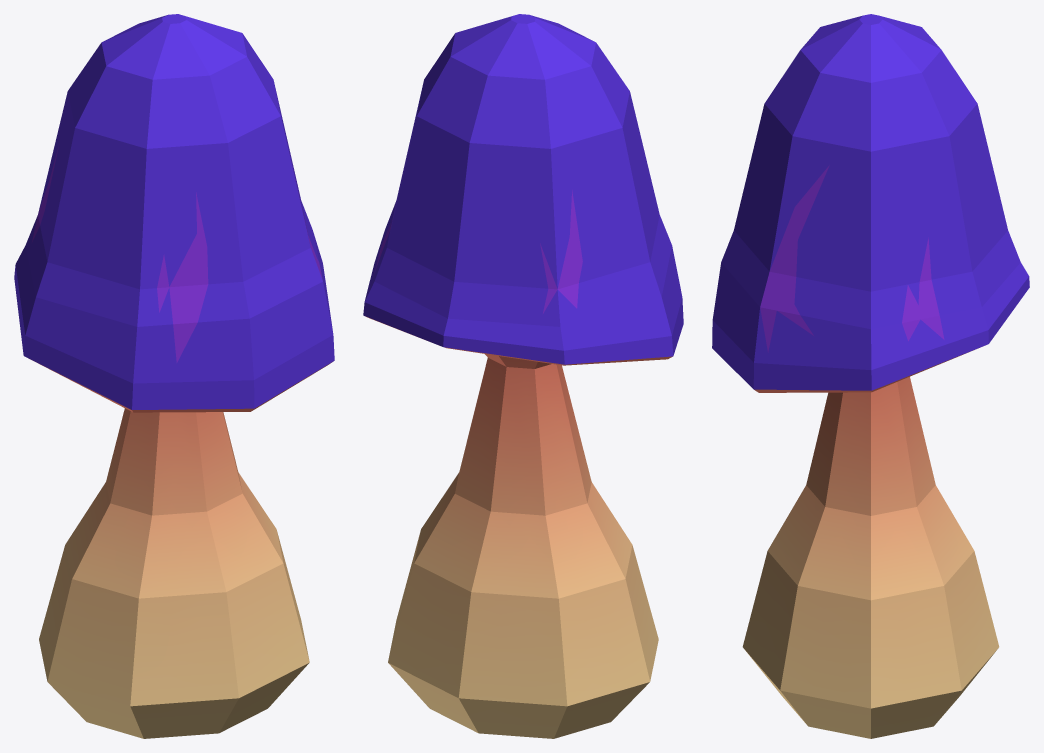
File: Garden_BellShroom03.fbx
3 views of the same model, side by side, from view 1: azimuth 30°, elevation 25°; view 2: azimuth 150°, elevation 25°; view 3: azimuth 270°, elevation 25° (orthographic).
Visible parts, largest first — view 1: Cylinder.320; view 2: Cylinder.320; view 3: Cylinder.320.
Part boxes in pixels (x1,y1,x2,y2): Cylinder.320: [14, 14, 334, 738]; Cylinder.320: [363, 14, 683, 738]; Cylinder.320: [712, 14, 1029, 738].
Size of the model in its own units: 33.91 by 73.46 by 31.25.
